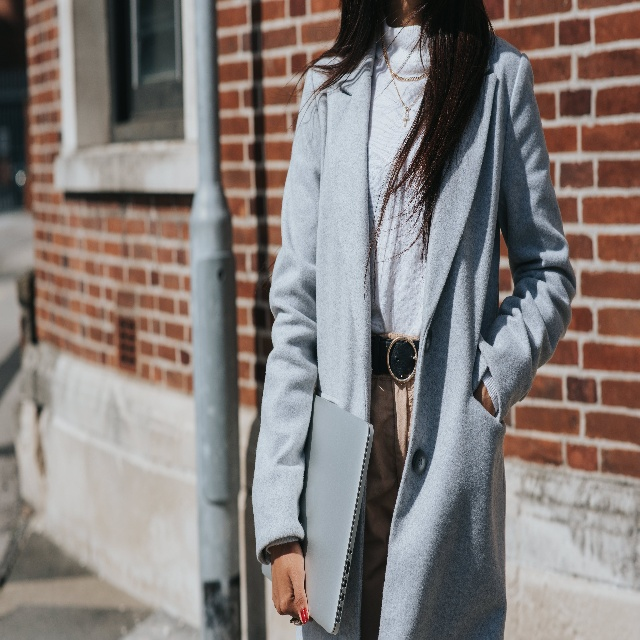Sin_guantes: (267, 540, 310, 627)
